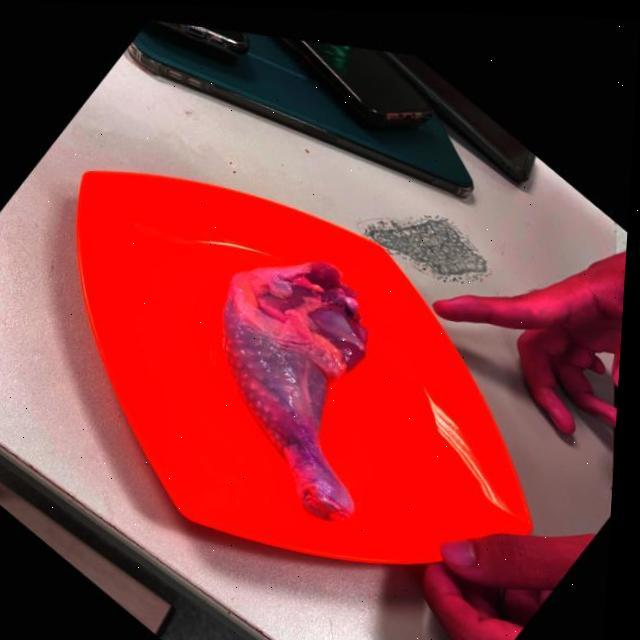quater: (212, 245, 380, 542)
